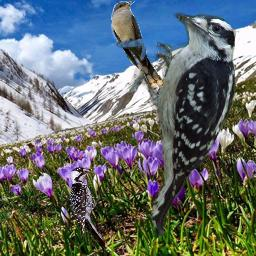Cuckoo: (111, 1, 163, 88)
Woodpecker: (129, 10, 249, 236), (69, 167, 105, 251)
